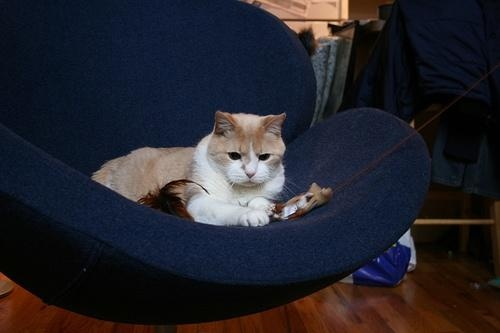cat: (92, 110, 291, 228)
chair: (1, 1, 433, 328)
